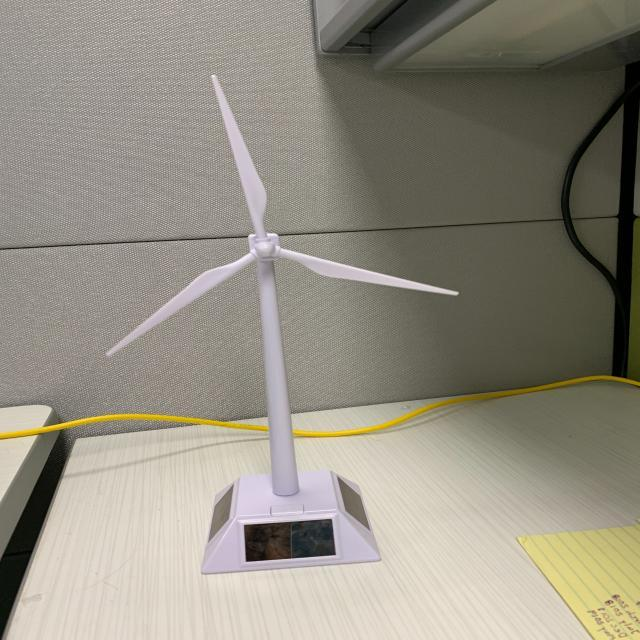solid-blade: (106, 252, 256, 356), (212, 75, 266, 238), (276, 248, 458, 295)
